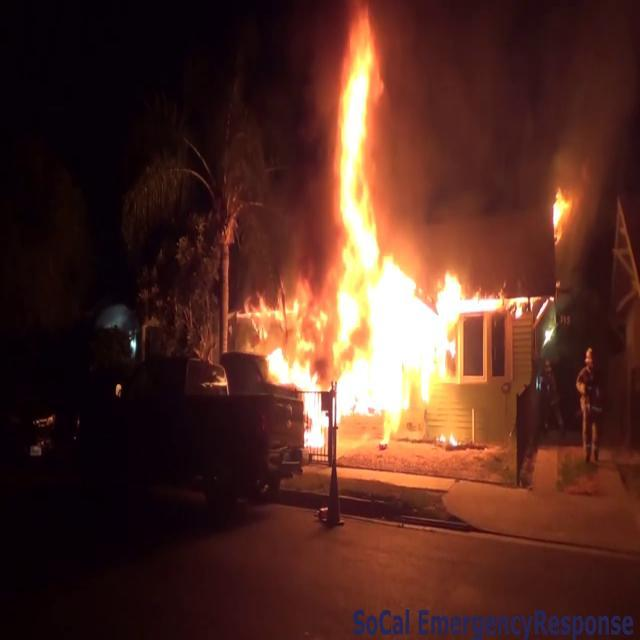Fire: (254, 246, 468, 448), (332, 0, 395, 234), (550, 183, 574, 234)
